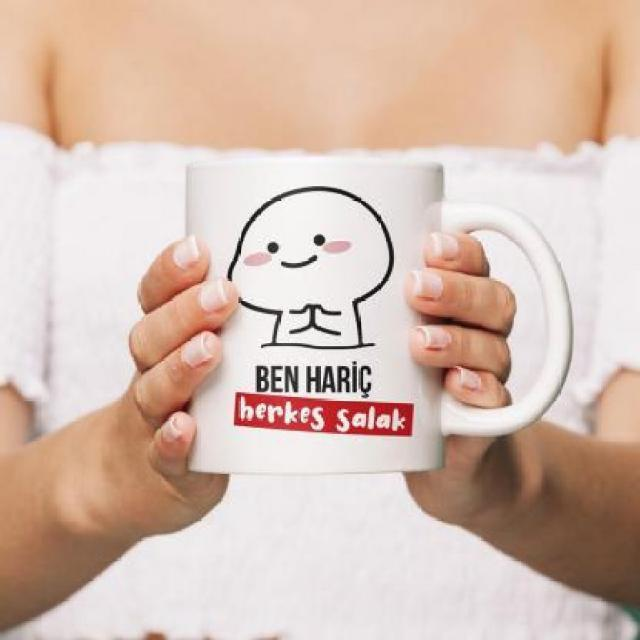taza: (161, 141, 579, 482)
